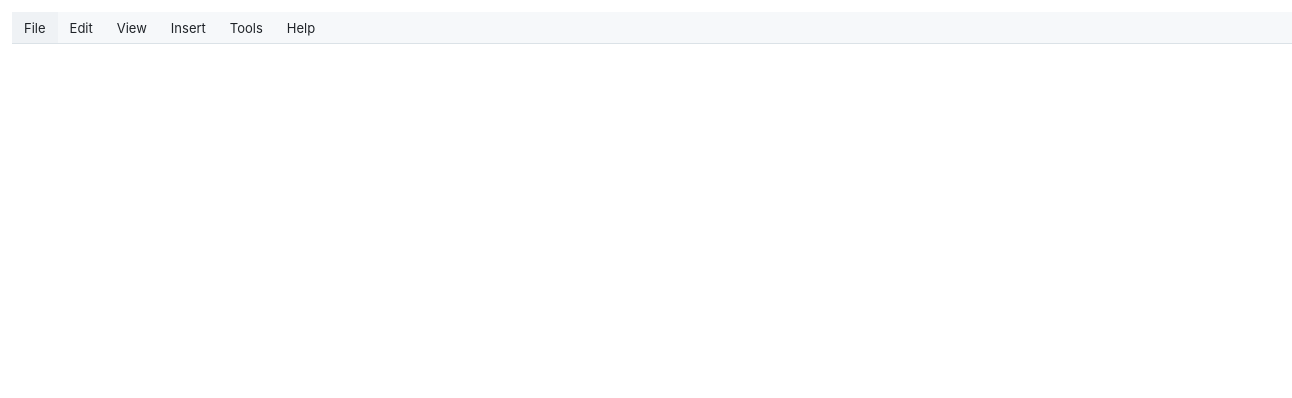
menu submenus › closes everything when the menu button is pressed again
This screenshot has width=1292, height=398.
Press the mouse on the button with class "menubar-button" showing "Insert" at (188,28), box [159,12,218,43]
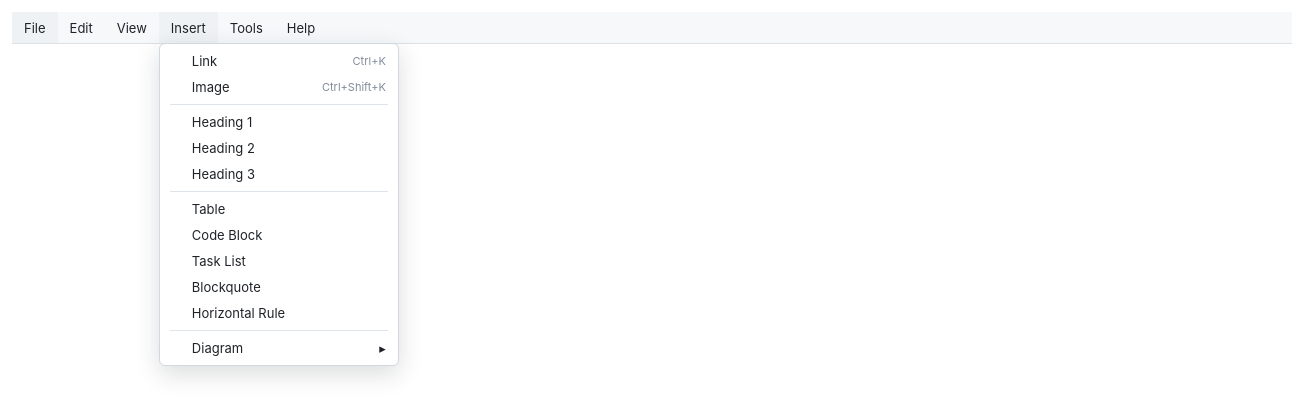
Expected: the element with class "menu-dropdown" is shown, [159,43,399,366]
Press the mouse on the button with class "menubar-button" showing "Insert" at (188,28), box [159,12,218,43]
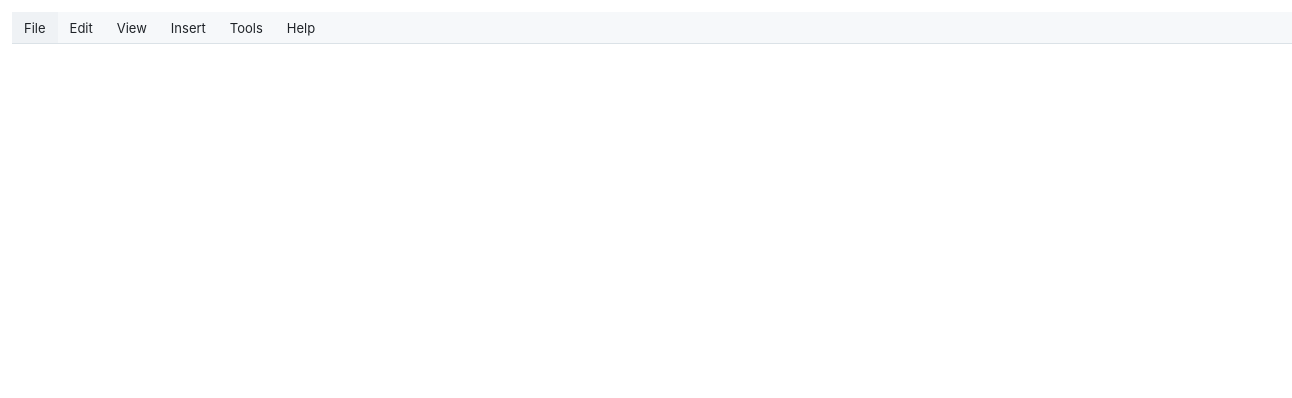
Expected: the element with class "menu-dropdown" is gone
